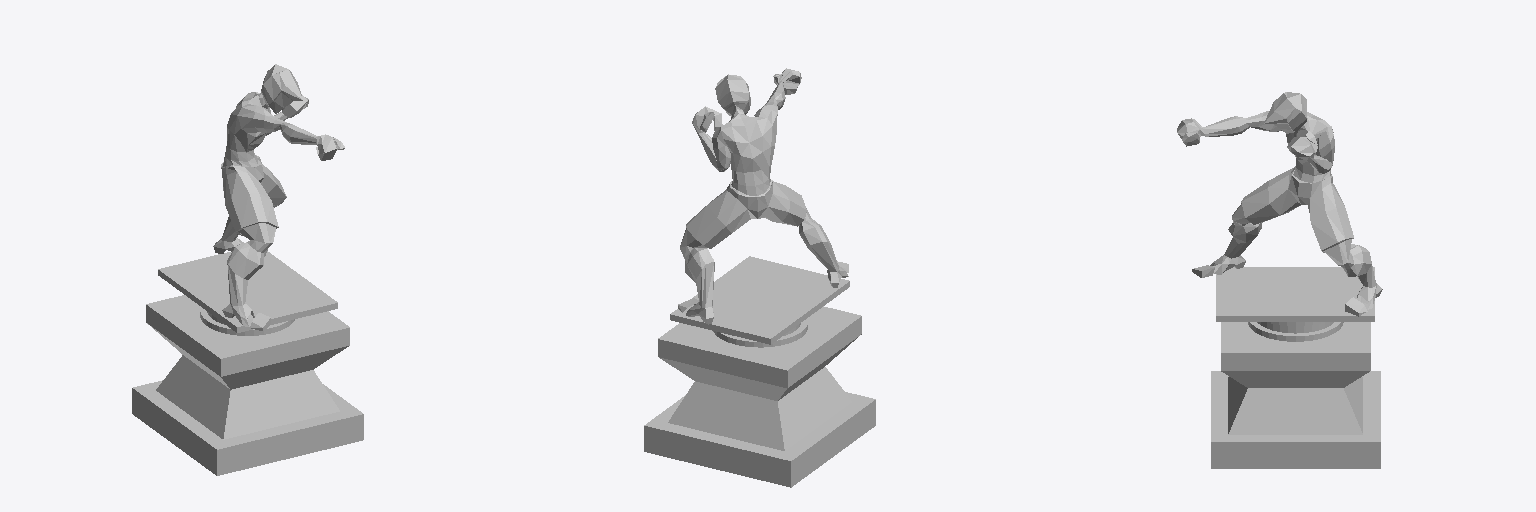
The model's file is Trophy.obj.
3 renders of one model, left to right at view 1: azimuth 30°, elevation 25°; view 2: azimuth 150°, elevation 25°; view 3: azimuth 270°, elevation 25°, orthographic.
Parts seen in each view (by area): view 1: Base_Body_Cube; view 2: Base_Body_Cube; view 3: Base_Body_Cube.
Boxes of the visible parts, <box> form: Base_Body_Cube: <box>132,64,363,475</box>; Base_Body_Cube: <box>644,68,875,487</box>; Base_Body_Cube: <box>1177,92,1382,468</box>.
Size of the model in its own units: 2 by 4.6 by 2.43.